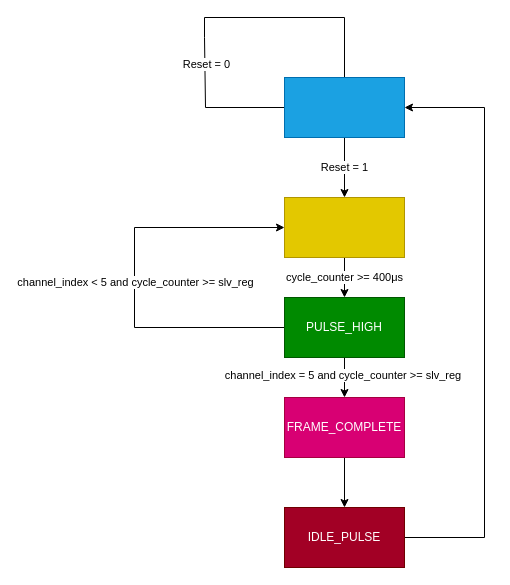
The diagram is 510 pixels wide and 585 high, and some of its shapes have lost their labels. Here are the shapes that lost their labels. From the top down, the centre of each, then its label:
At point (344, 107): "IDLE".
At point (344, 227): "GAP_LOW".
